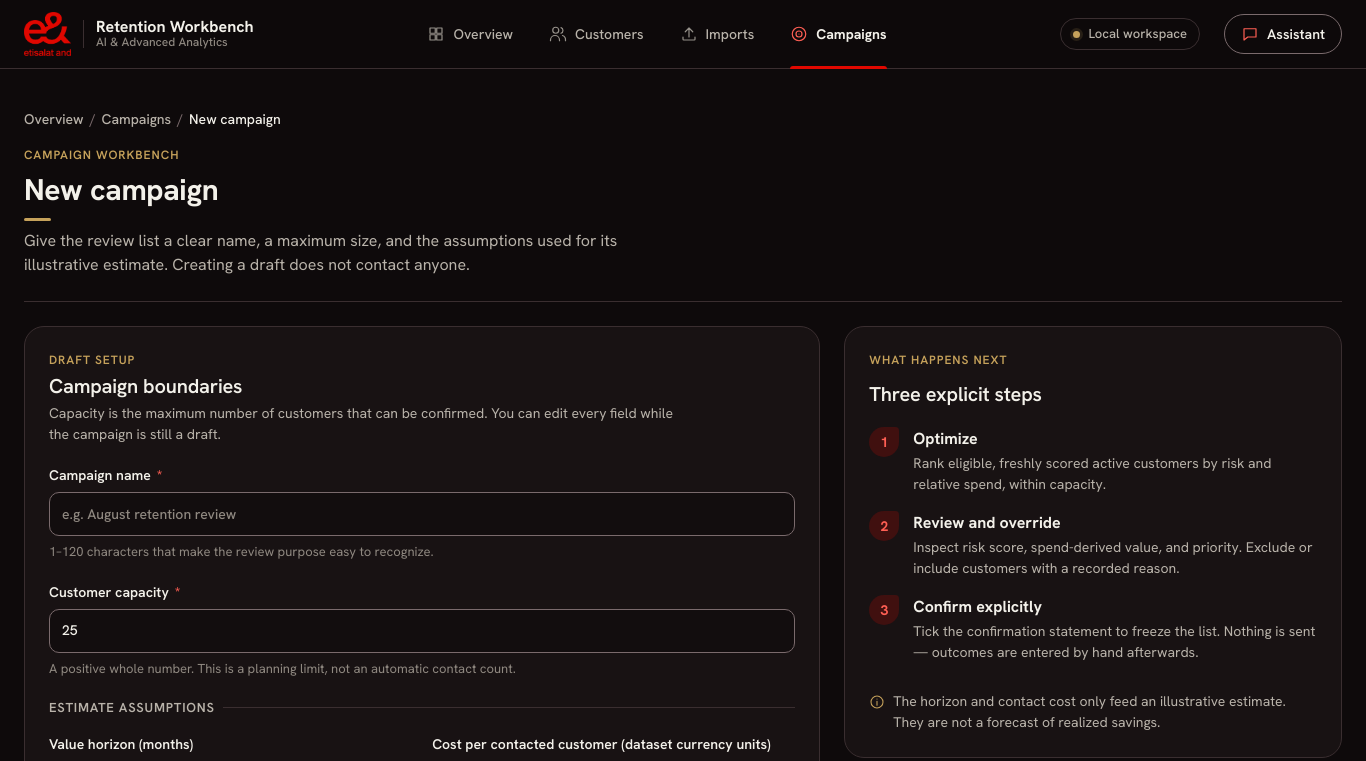
Scenario: campaign browser journeys › creates a named capacity-limited draft
The image size is (1366, 761).
expect the heading "New campaign" is shown: met, box [24,170,218,209]
Type "August review" into the field labelled "Campaign name" at (422, 514), box [49,492,795,536]
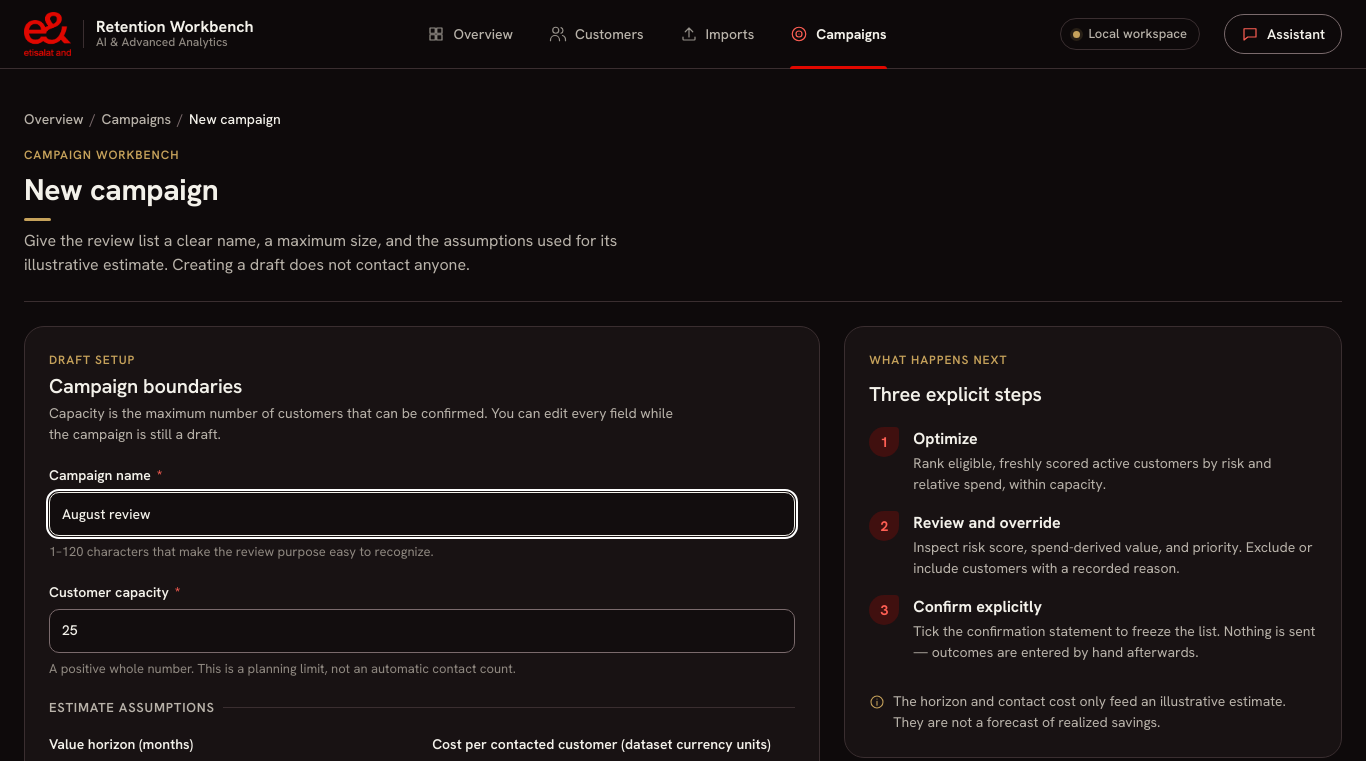
Replace the text in the number field labelled "Customer capacity" with "2" at (422, 630), box [49,608,795,652]
(page scrolled)
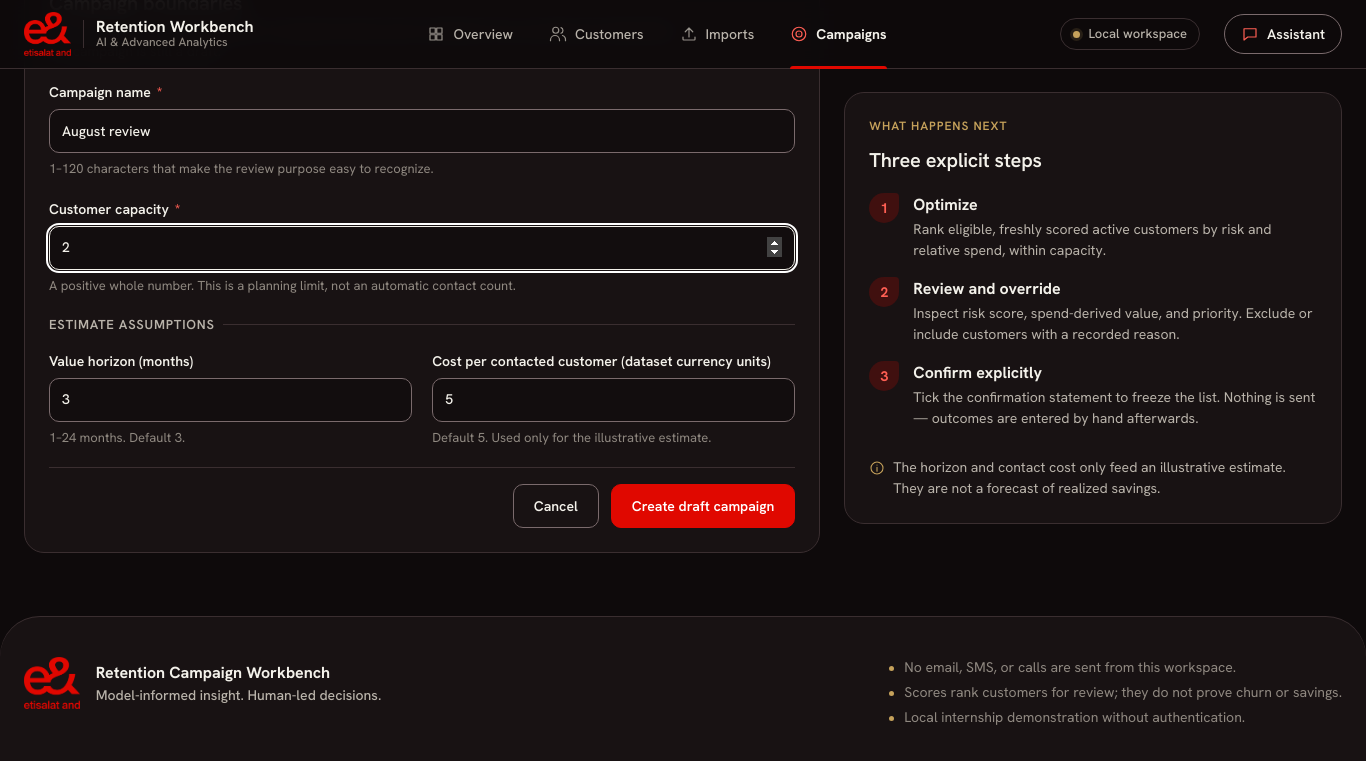
Click the button "Create draft campaign" at (703, 506), box [611,484,795,528]
(page scrolled)
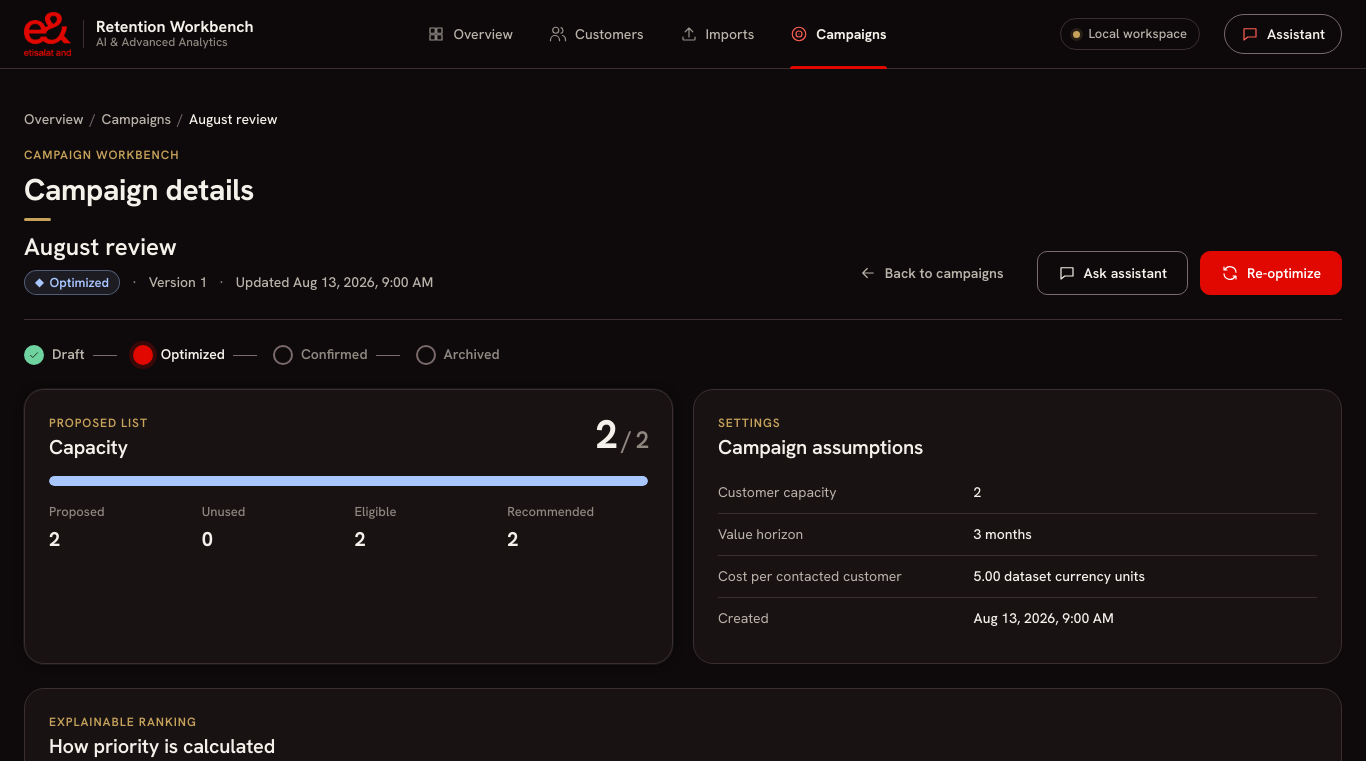
expect the heading "Campaign details" is shown: met, box [24,170,254,209]
expect the heading "Capacity" is shown: met, box [49,434,128,460]
